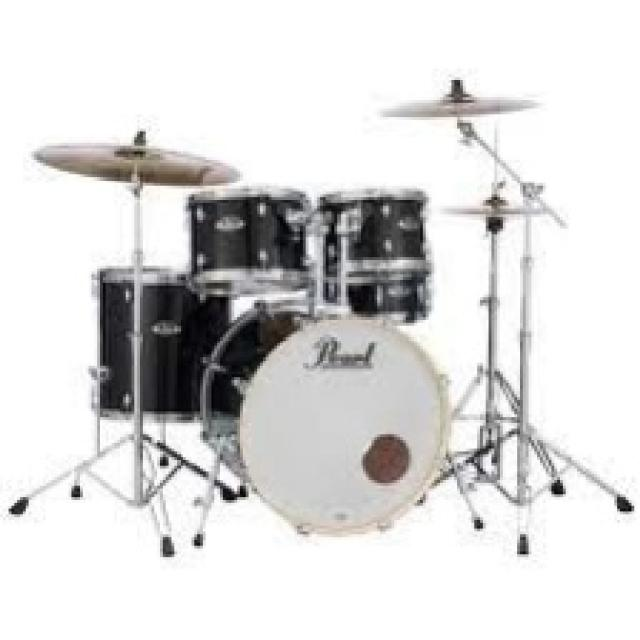drums: (5, 70, 639, 560)
